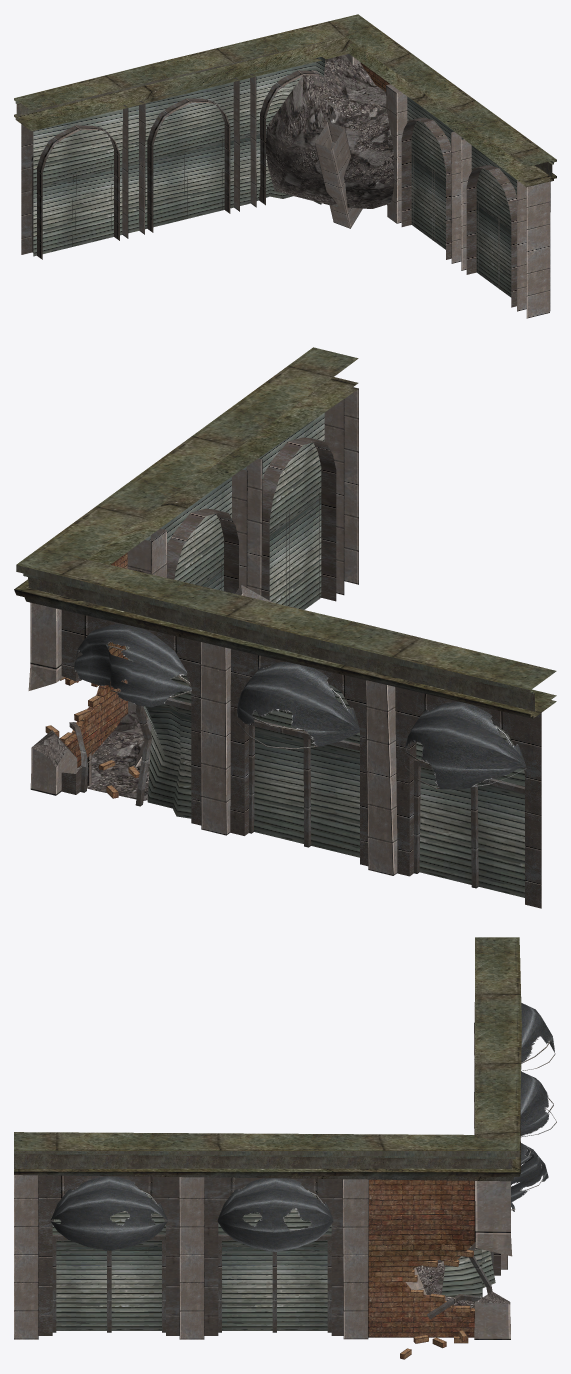
The model's file is Store_front_48.fbx.
The picture shows the model from 3 angles, top to bottom: view 1: azimuth 30°, elevation 25°; view 2: azimuth 150°, elevation 25°; view 3: azimuth 270°, elevation 25°; orthographic projection. The views are drawn at different scales.
Visible parts, largest first — view 1: Store_front_48; view 2: Store_front_48; view 3: Store_front_48.
Boxes of the visible parts, x1,y1,x2,y2 form: Store_front_48: (14, 14, 556, 318); Store_front_48: (14, 347, 556, 908); Store_front_48: (14, 937, 556, 1359).
Size of the model in its own units: 1538 by 664 by 1532.
